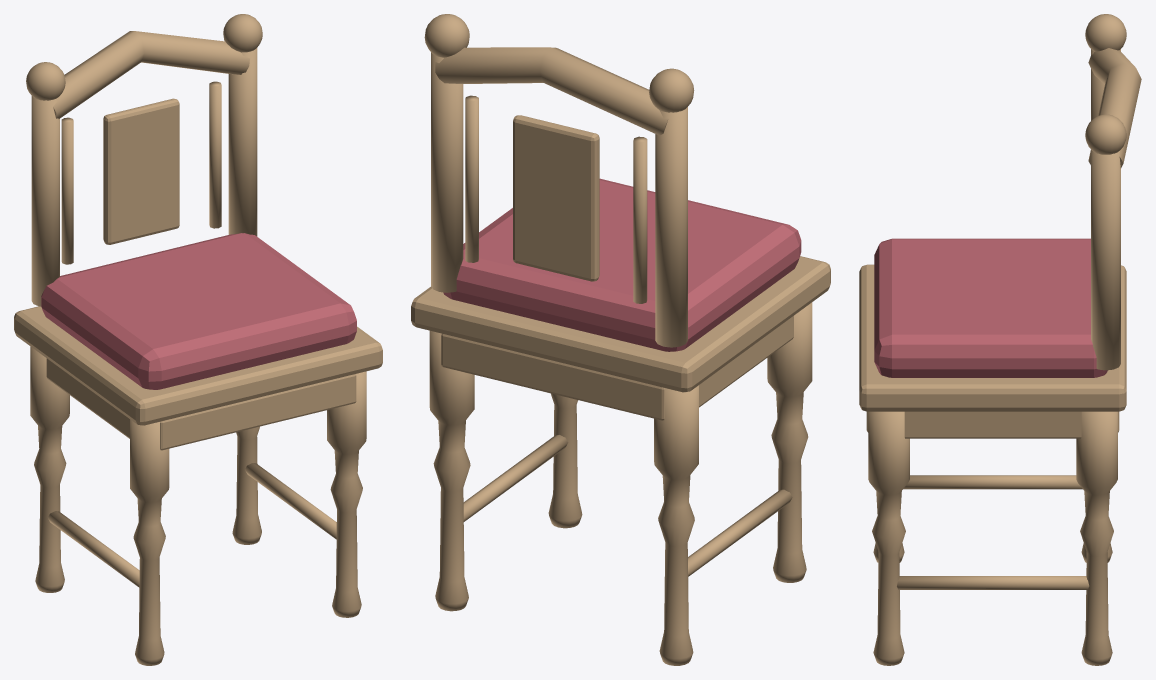
The model's file is small_chair.glb.
3 renders of one model, left to right at view 1: azimuth 30°, elevation 25°; view 2: azimuth 150°, elevation 25°; view 3: azimuth 270°, elevation 25°, orthographic. The views are drawn at different scales.
Visible parts, largest first — view 1: small_chair; view 2: small_chair; view 3: small_chair.
Boxes of the visible parts, bbox=[...] form: small_chair: bbox=[14, 14, 382, 665]; small_chair: bbox=[411, 14, 830, 665]; small_chair: bbox=[859, 14, 1141, 665].
Size of the model in its own units: 1 by 2.03 by 0.95.
